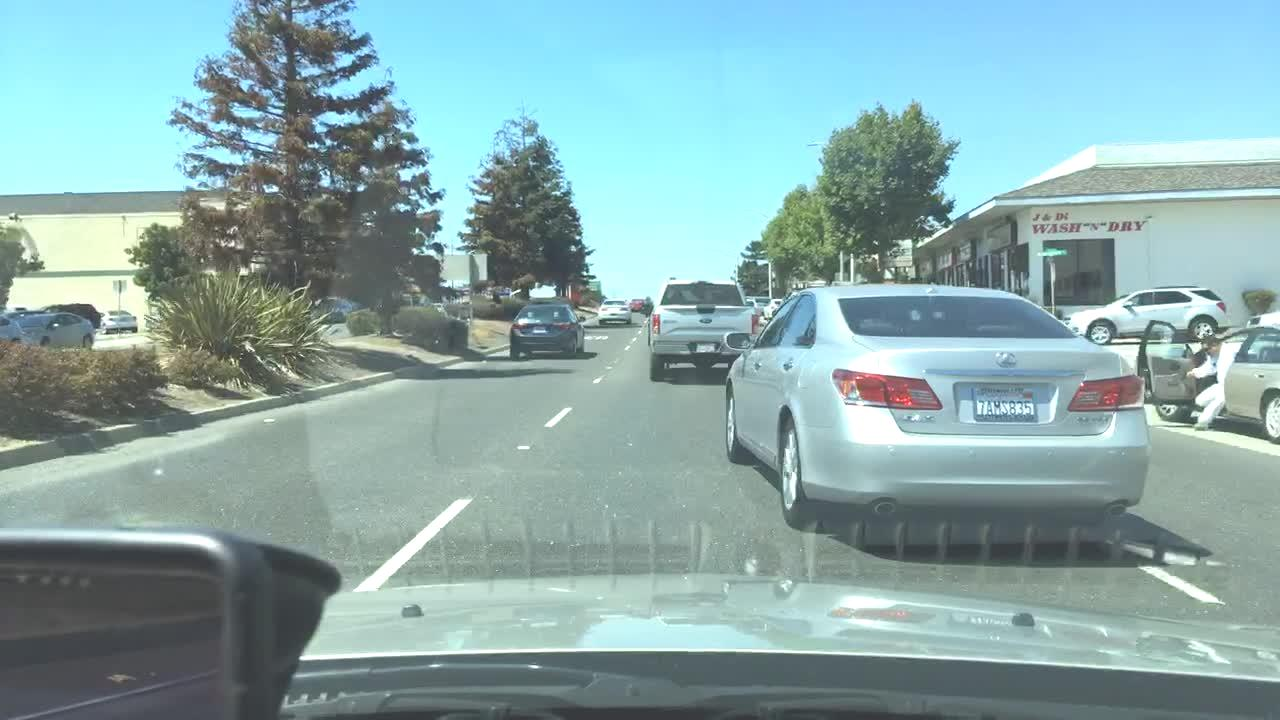ford: (697, 315, 717, 326)
lexus: (985, 342, 1025, 370)
